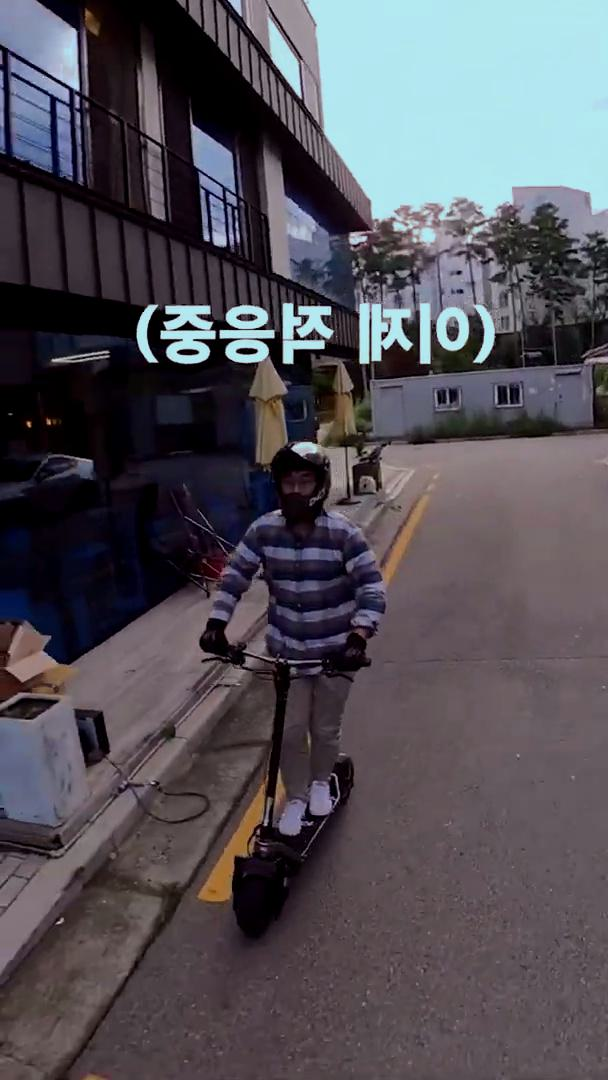helmet: (199, 438, 389, 946)
